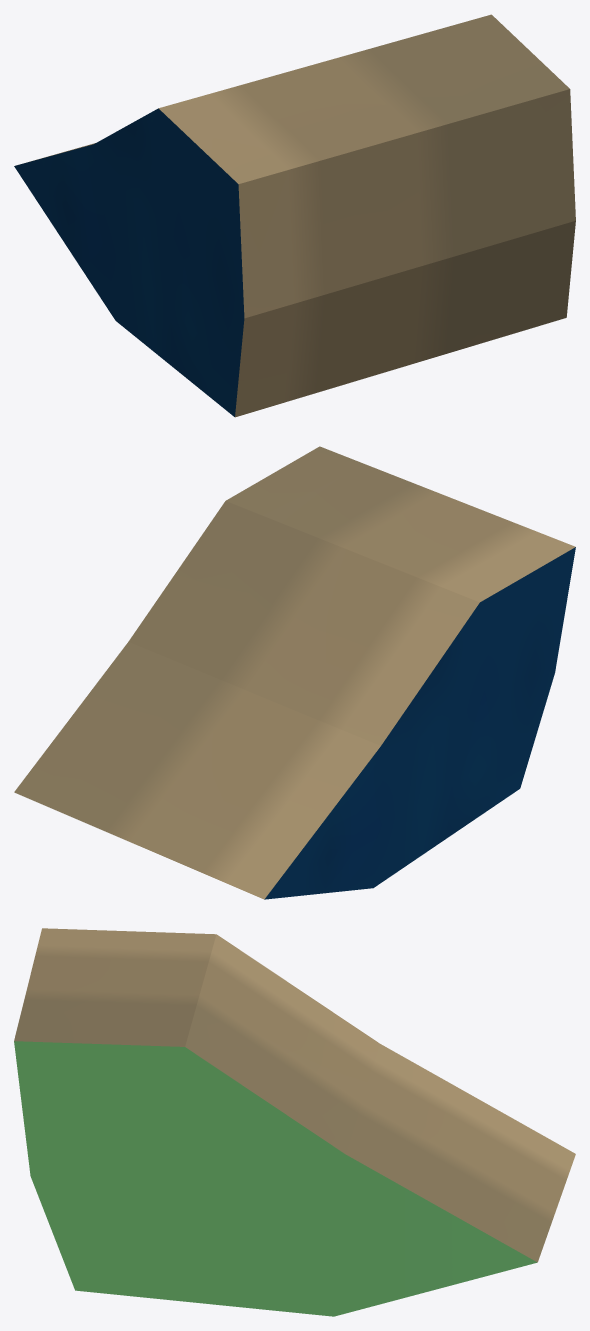
Rendered from 061d_Sri_Lanka.glb.
The picture shows the model from 3 angles, top to bottom: view 1: azimuth 30°, elevation 25°; view 2: azimuth 150°, elevation 25°; view 3: azimuth 270°, elevation 25°; orthographic projection. The views are drawn at different scales.
Parts seen in each view (by area): view 1: part_0; view 2: part_0; view 3: part_0.
Part boxes in pixels (bbox=[...]): part_0: bbox=[14, 14, 575, 417]; part_0: bbox=[14, 446, 575, 899]; part_0: bbox=[14, 928, 575, 1316].
Size of the model in its own units: 0.242 by 0.188 by 0.3379.
Materials: 1 (1 with a texture image).
